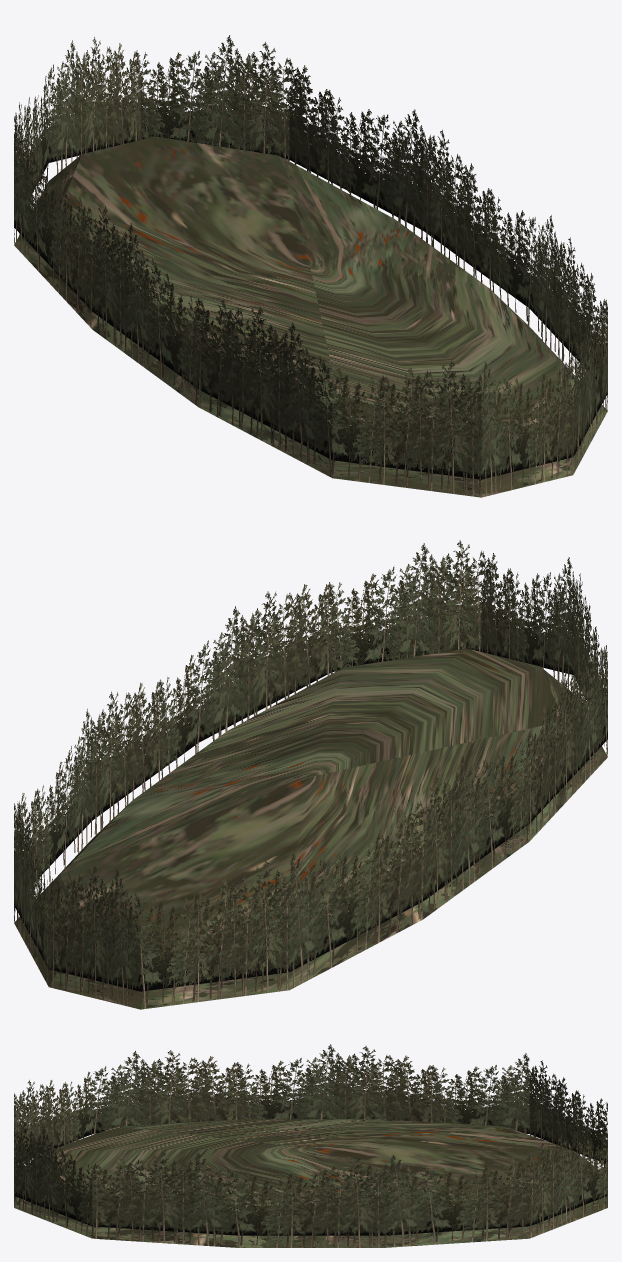
File: PineTreeCylinderBIG.fbx
3 views of the same model, one above another, from view 1: azimuth 30°, elevation 25°; view 2: azimuth 150°, elevation 25°; view 3: azimuth 270°, elevation 25° (orthographic). The views are drawn at different scales.
Visible parts, largest first — view 1: Cube; view 2: Cube; view 3: Cube.
Boxes of the visible parts, x1=… form: Cube: x1=14, y1=35, x2=607, y2=497; Cube: x1=14, y1=540, x2=607, y2=1009; Cube: x1=14, y1=1044, x2=607, y2=1247.
Size of the model in its own units: 480 by 200 by 1087.
